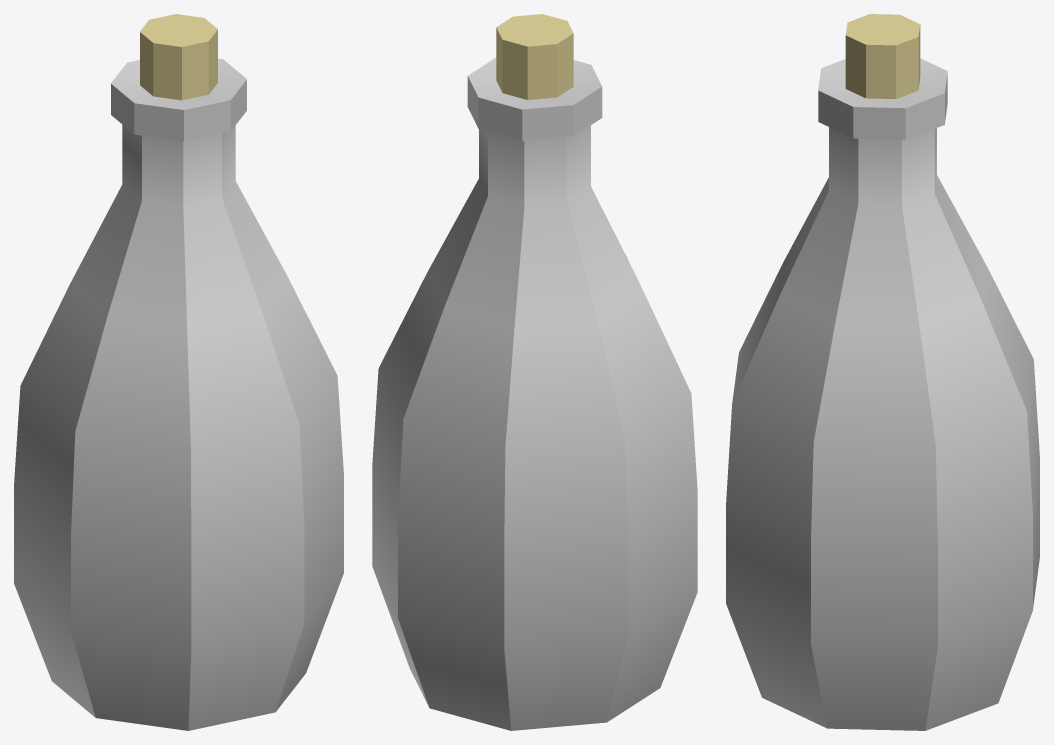
The model's file is flasa.fbx.
3 views of the same model, side by side, from view 1: azimuth 30°, elevation 25°; view 2: azimuth 150°, elevation 25°; view 3: azimuth 270°, elevation 25° (orthographic).
Visible parts, largest first — view 1: pCylinder13; view 2: pCylinder13; view 3: pCylinder13.
Boxes of the visible parts, box(x1,y1,x2,y2) form: pCylinder13: box(14, 14, 343, 730); pCylinder13: box(372, 14, 697, 730); pCylinder13: box(726, 14, 1039, 730).
Bounding box in the file's own units: 19.42 × 44.37 × 19.42.
